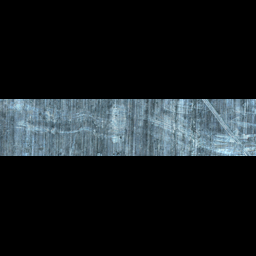d: (198, 99, 254, 153), (12, 107, 126, 133), (139, 99, 197, 139), (102, 105, 129, 146)
